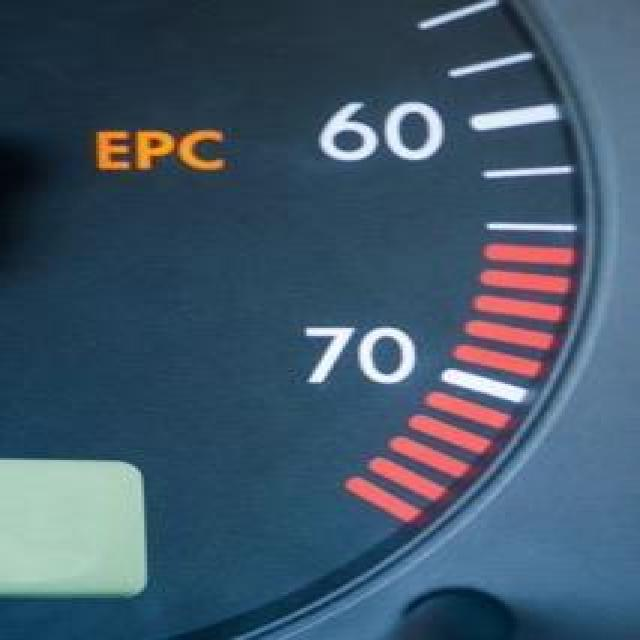kontrolka: (58, 113, 260, 194)
